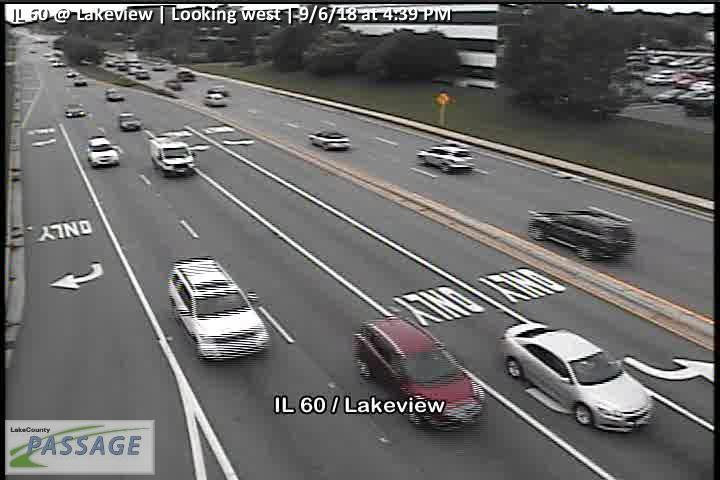SUV: (168, 257, 268, 363), (527, 207, 636, 263), (87, 136, 121, 167)
Sedan: (500, 322, 654, 431), (352, 317, 485, 431), (417, 144, 474, 175), (307, 130, 351, 152), (120, 112, 143, 131), (65, 104, 86, 118)
Truck: (149, 138, 197, 179)
